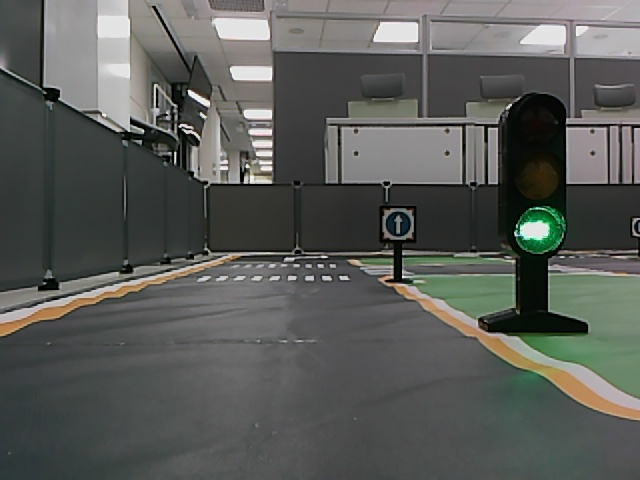crosswalk: (194, 273, 352, 284), (230, 263, 338, 270)
go: (385, 211, 412, 238)
green: (513, 204, 568, 255)
